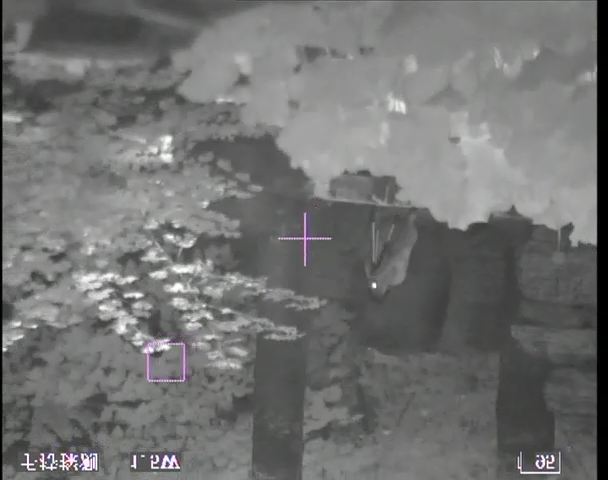my: (370, 281, 378, 290)
